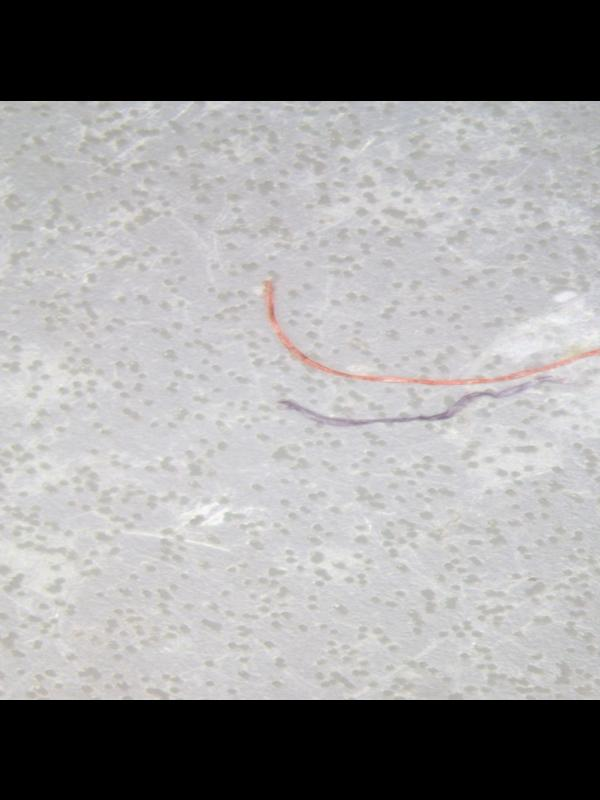microplastic: (259, 278, 600, 428)
